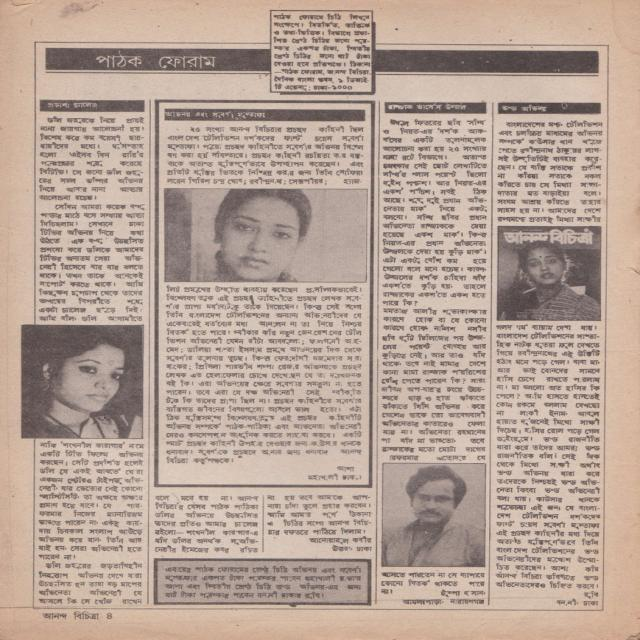advertisement: (155, 560, 371, 604), (271, 11, 376, 94)
image: (163, 187, 369, 284), (22, 325, 142, 439), (382, 464, 485, 566), (498, 226, 600, 321)
page number: (106, 612, 112, 621)
paragraph: (380, 114, 491, 461), (160, 285, 366, 465), (491, 321, 604, 590), (38, 203, 147, 324), (37, 440, 146, 561), (164, 122, 367, 186), (495, 119, 605, 225), (38, 112, 146, 201), (152, 494, 263, 556), (36, 561, 144, 608), (265, 495, 372, 536), (379, 570, 486, 595)
text: (401, 598, 486, 606), (309, 536, 373, 544), (308, 473, 362, 481), (440, 590, 486, 599), (556, 600, 599, 607), (73, 611, 99, 620), (333, 545, 372, 551), (43, 612, 68, 620), (337, 465, 355, 472), (584, 591, 599, 599)
title: (96, 56, 215, 71), (164, 109, 278, 121), (386, 102, 468, 114), (40, 100, 103, 111), (499, 102, 551, 114)
